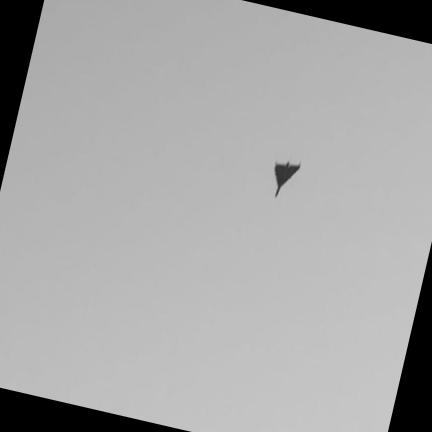Shahed: (275, 162, 300, 197)
